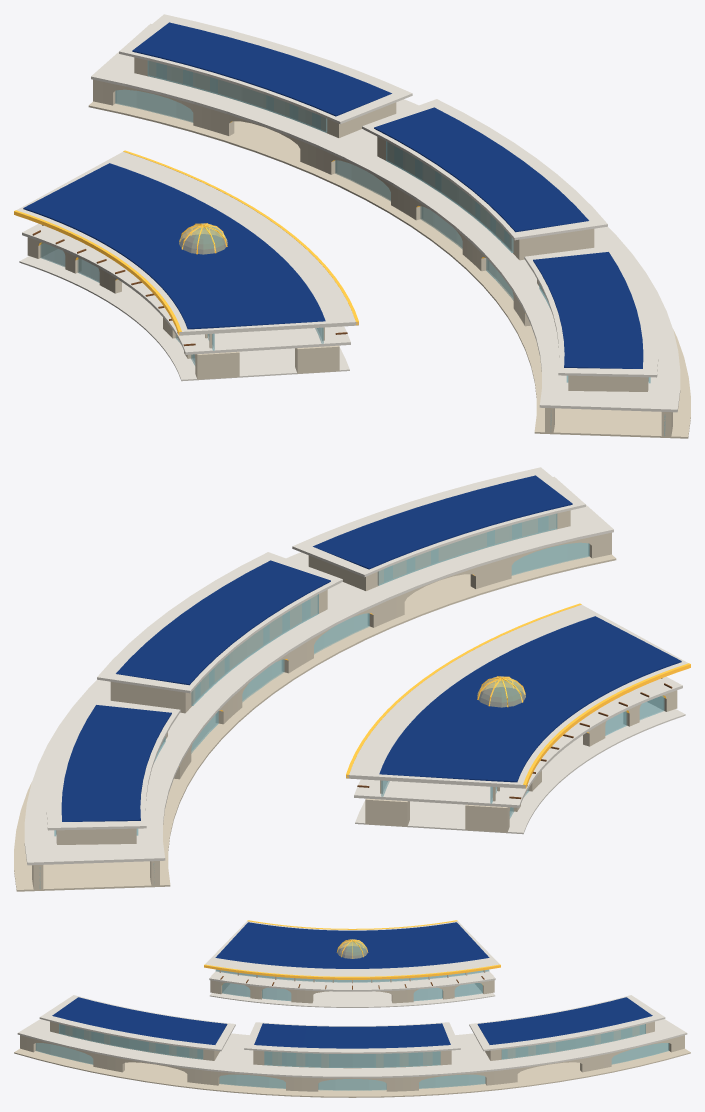
The model's file is solar_ring_arc.glb.
The picture shows the model from 3 angles, top to bottom: view 1: azimuth 30°, elevation 25°; view 2: azimuth 150°, elevation 25°; view 3: azimuth 270°, elevation 25°; orthographic projection. The views are drawn at different scales.
Parts seen in each view (by area): view 1: OuterRingSector, InnerRingSector; view 2: OuterRingSector, InnerRingSector; view 3: OuterRingSector, InnerRingSector.
Boxes of the visible parts, x1,y1,x2,y2 form: OuterRingSector: (88,14,690,438); InnerRingSector: (14,150,358,381); OuterRingSector: (14,467,616,891); InnerRingSector: (346,603,690,834); OuterRingSector: (14,995,690,1097); InnerRingSector: (204,920,500,1007).
Size of the model in its own units: 102 by 14.8 by 201.
